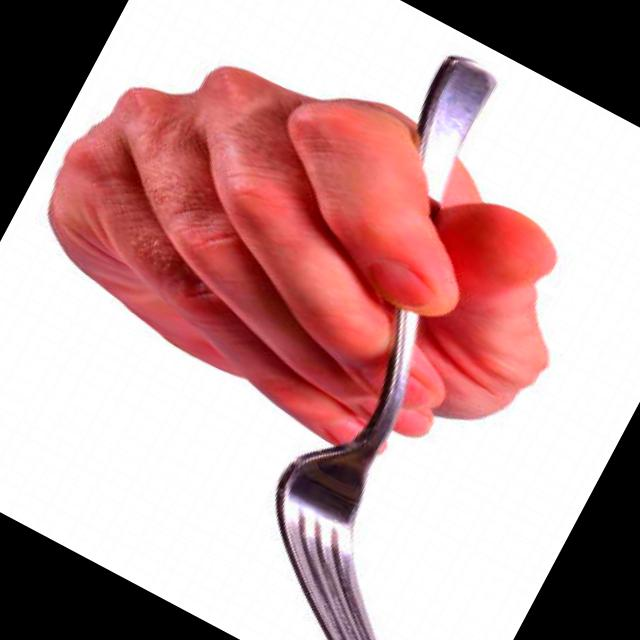fork: (162, 47, 640, 640)
